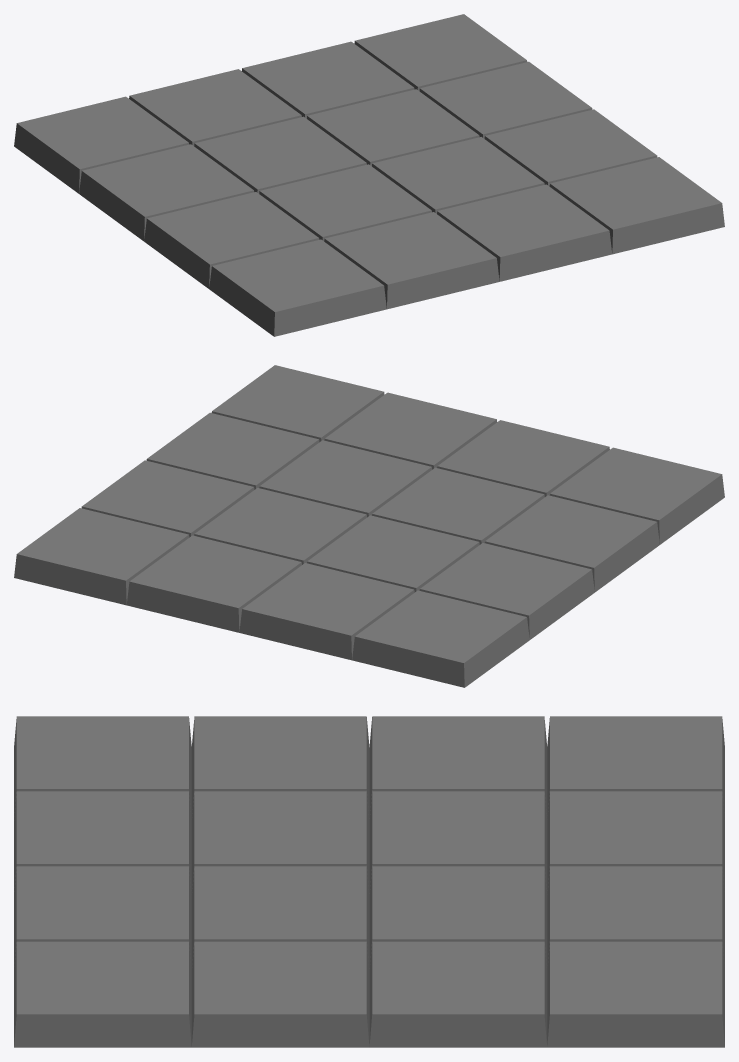
File: walkway-without-curb.fbx
The picture shows the model from 3 angles, top to bottom: view 1: azimuth 30°, elevation 25°; view 2: azimuth 150°, elevation 25°; view 3: azimuth 270°, elevation 25°; orthographic projection. The views are drawn at different scales.
Visible parts, largest first — view 1: Cube; view 2: Cube; view 3: Cube.
Boxes of the visible parts, left/top/right/bottom form: Cube: left=14, top=14, right=724, bottom=336; Cube: left=14, top=365, right=724, bottom=687; Cube: left=14, top=716, right=724, bottom=1047.
Size of the model in its own units: 200 by 10 by 200.
